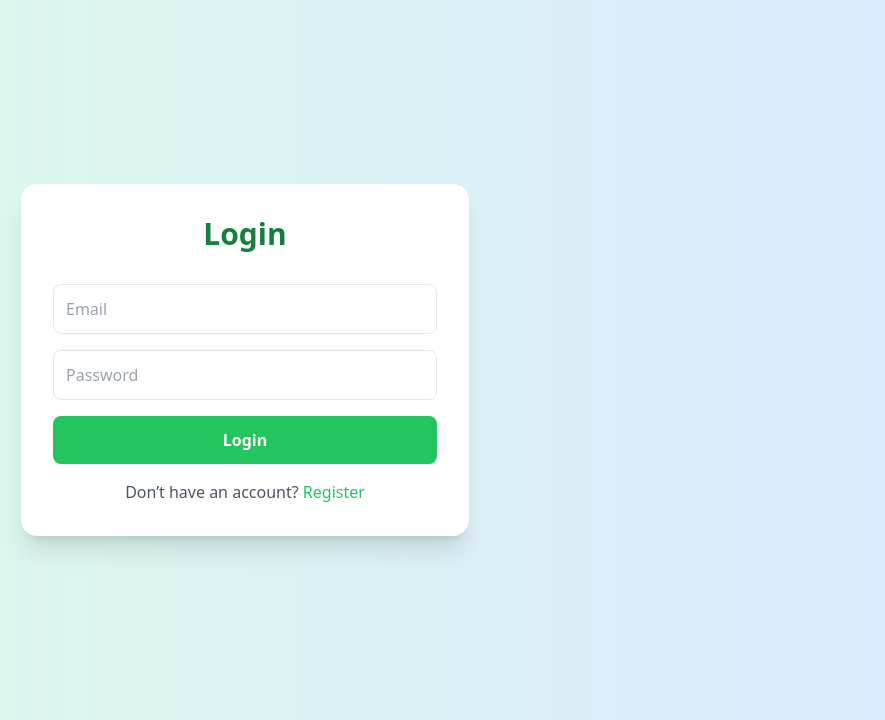
Scenario: Auth Flow - Red › shows error if login fields are empty
This screenshot has width=885, height=720.
Step 1. Click the button "Login" → x=245, y=440, box [53,416,437,464]
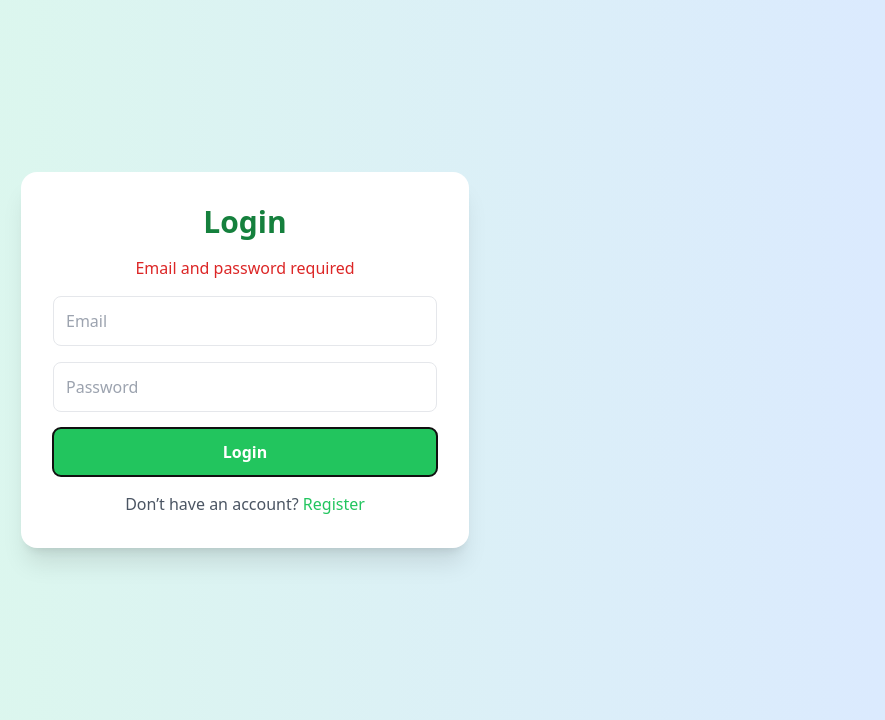
Result: the message reads "Email and password required" at [135,257,354,279]
